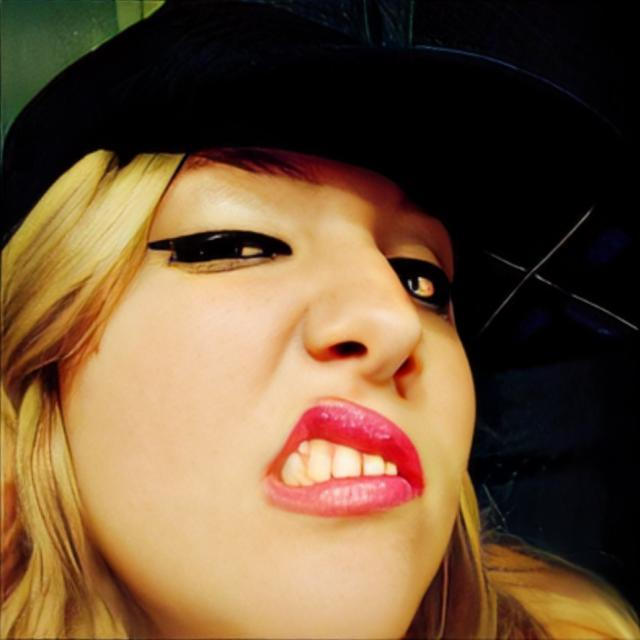disgust: (58, 146, 478, 640)
